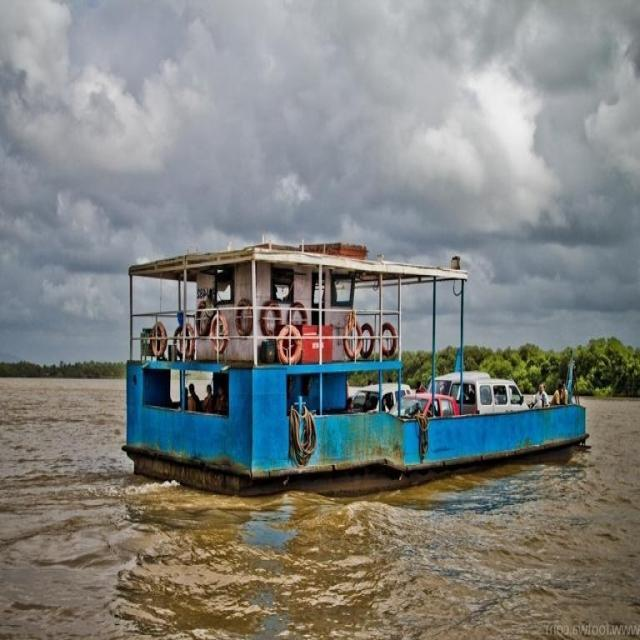boat: (106, 227, 597, 492)
